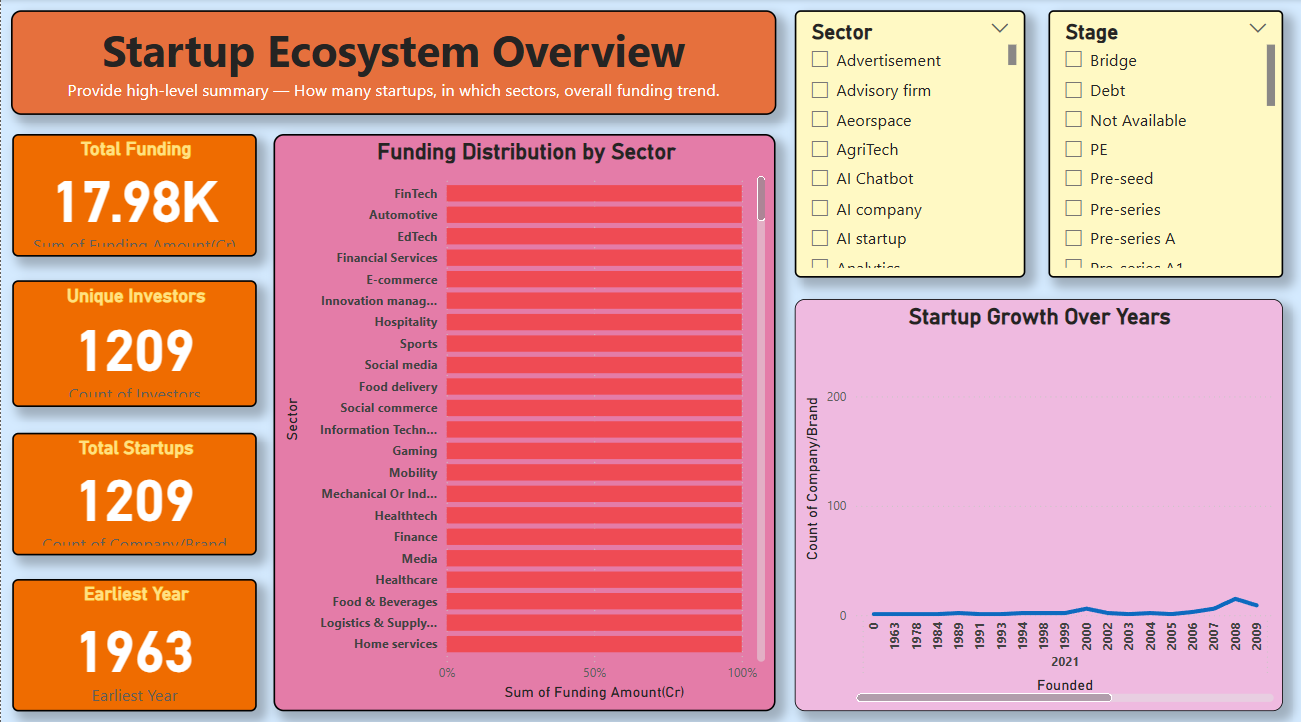

The dashboard page shown, as its layout file describes it:
{"tool":"powerbi","page":{"name":"Overview","canvas":[1280,720],"ordinal":0},"visuals":[{"type":"card","title":"Total Startups","fields":{"Values":["CountNonNull(Indian Startup.Company/Brand)"]},"box":[11,424,239.5,119.8],"z":0},{"type":"card","title":"Total Funding","fields":{"Values":["Sum(Indian Startup.Funding Amount(Cr))"]},"box":[11,132.2,239.5,119.8],"z":1000},{"type":"card","title":"Unique Investors","fields":{"Values":["CountNonNull(Indian Startup.Investors)"]},"box":[11,275.3,239.5,123.9],"z":2000},{"type":"hundredPercentStackedBarChart","title":"Funding Distribution by Sector","fields":{"Category":["Indian Startup.Sector"],"Y":["Sum(Indian Startup.Funding Amount(Cr))"]},"box":[267.1,132.2,491.5,564.4],"z":3000},{"type":"lineChart","title":"Startup Growth Over Years","fields":{"Category":["Indian Startup.Year","Indian Startup.Founded"],"Y":["CountNonNull(Indian Startup.Company/Brand)"]},"box":[776.4,293.2,477.7,403.4],"z":4000},{"type":"slicer","fields":{"Values":["Indian Startup.Sector"]},"box":[776.4,11,225.8,261.6],"z":5000},{"type":"slicer","fields":{"Values":["Indian Startup.Stage"]},"box":[1024.2,11,229.9,261.6],"z":6000},{"type":"textbox","box":[9.7,10.9,749.2,102.5],"z":7000},{"type":"card","title":"Earliest Year","fields":{"Values":["Indian Startup.Earliest Year"]},"box":[11,567.2,239.5,129.4],"z":8000}]}

Visuals, with their boxes in screenshot pixels (x1, y1, x2, y2), scaled from the page's 1280x720 canvas onto the 1301x722 screenshot:
"Total Startups" card: bbox=(11, 425, 255, 545)
"Total Funding" card: bbox=(11, 133, 255, 253)
"Unique Investors" card: bbox=(11, 276, 255, 400)
"Funding Distribution by Sector" hundredPercentStackedBarChart: bbox=(271, 133, 771, 699)
"Startup Growth Over Years" lineChart: bbox=(789, 294, 1275, 699)
slicer - Indian Startup.Sector: bbox=(789, 11, 1019, 273)
slicer - Indian Startup.Stage: bbox=(1041, 11, 1275, 273)
textbox: bbox=(10, 11, 771, 114)
"Earliest Year" card: bbox=(11, 569, 255, 699)
